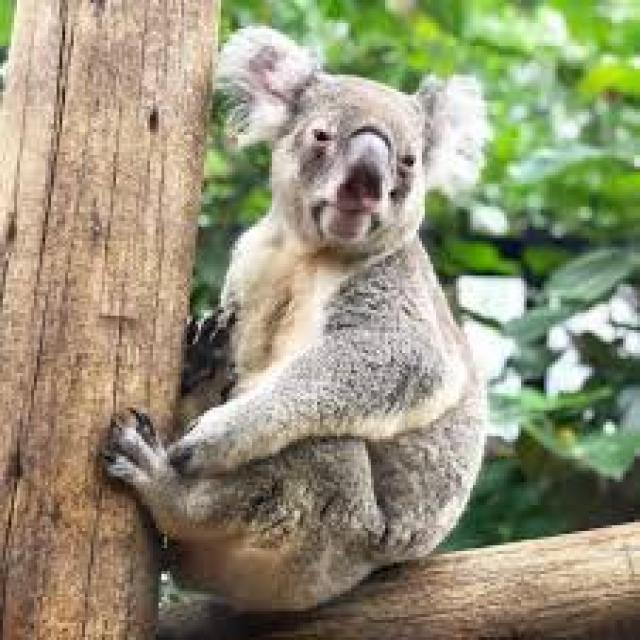Koala: (97, 18, 492, 611)
